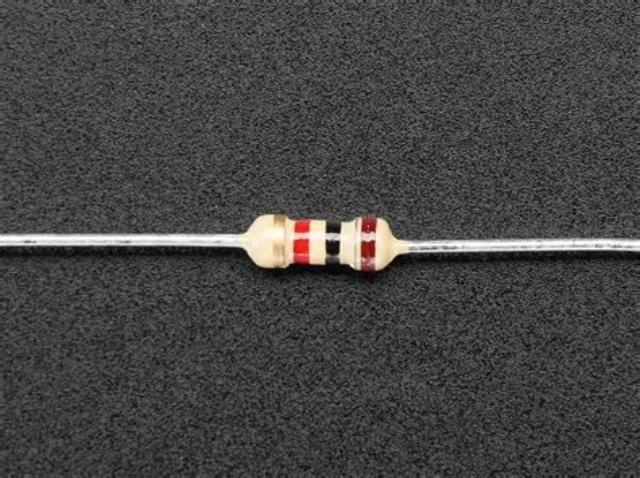black: (325, 220, 341, 266)
brown: (360, 216, 377, 270)
gold: (273, 213, 285, 268)
red: (294, 219, 310, 265)
resistor: (242, 201, 403, 284)
